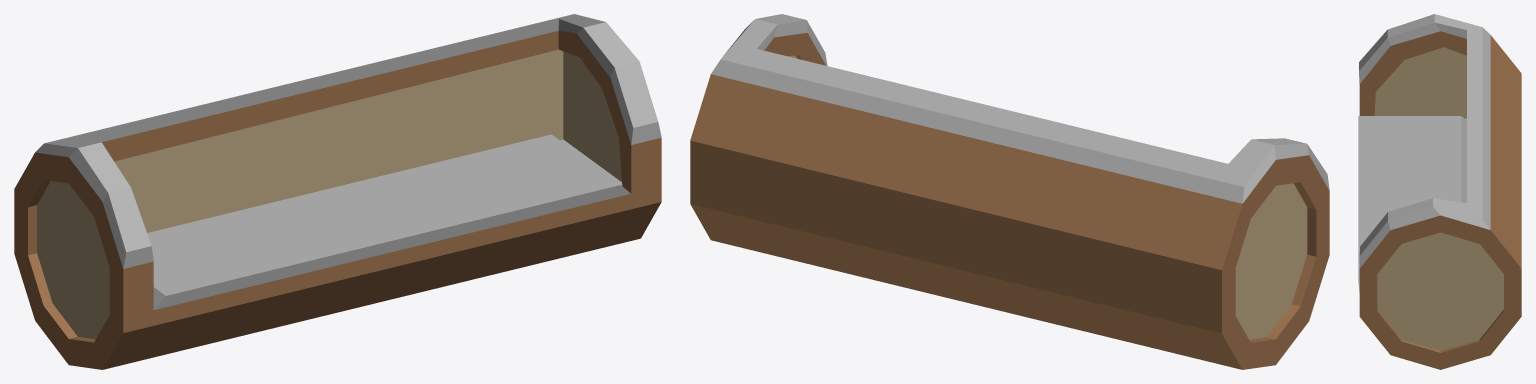
The model's file is Bench_2 Winter.fbx.
3 views of the same model, side by side, from view 1: azimuth 30°, elevation 25°; view 2: azimuth 150°, elevation 25°; view 3: azimuth 270°, elevation 25° (orthographic). The views are drawn at different scales.
Parts seen in each view (by area): view 1: Bench2Winter_mesh; view 2: Bench2Winter_mesh; view 3: Bench2Winter_mesh.
Boxes of the visible parts, bbox=[...] form: Bench2Winter_mesh: bbox=[14, 14, 661, 369]; Bench2Winter_mesh: bbox=[690, 14, 1329, 369]; Bench2Winter_mesh: bbox=[1358, 14, 1521, 369].
Size of the model in its own units: 300 by 117 by 106.
